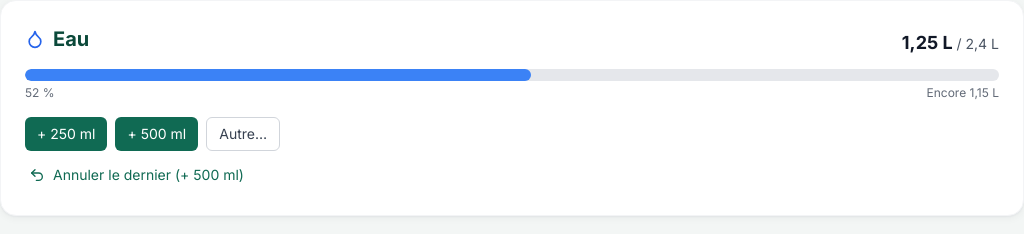
WaterCard › ajoute 250 ml en un geste
This screenshot has width=1024, height=234.
Expected: the text "1,25 L" is shown, 902,32 -> 953,53
Click the button "+ 250 ml" at coordinates (66, 134), box 25,117 -> 108,151
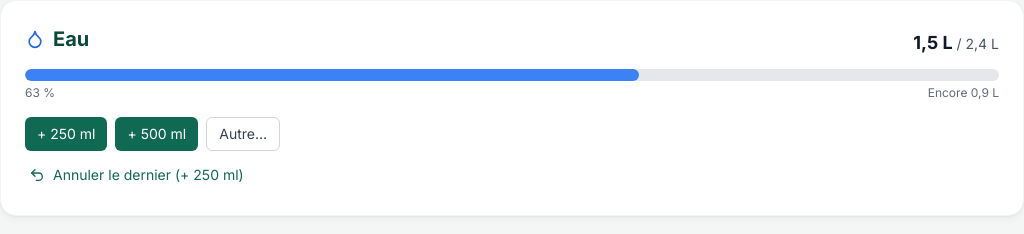
Result: the text "1,5 L" is shown at 913,32 -> 953,53
